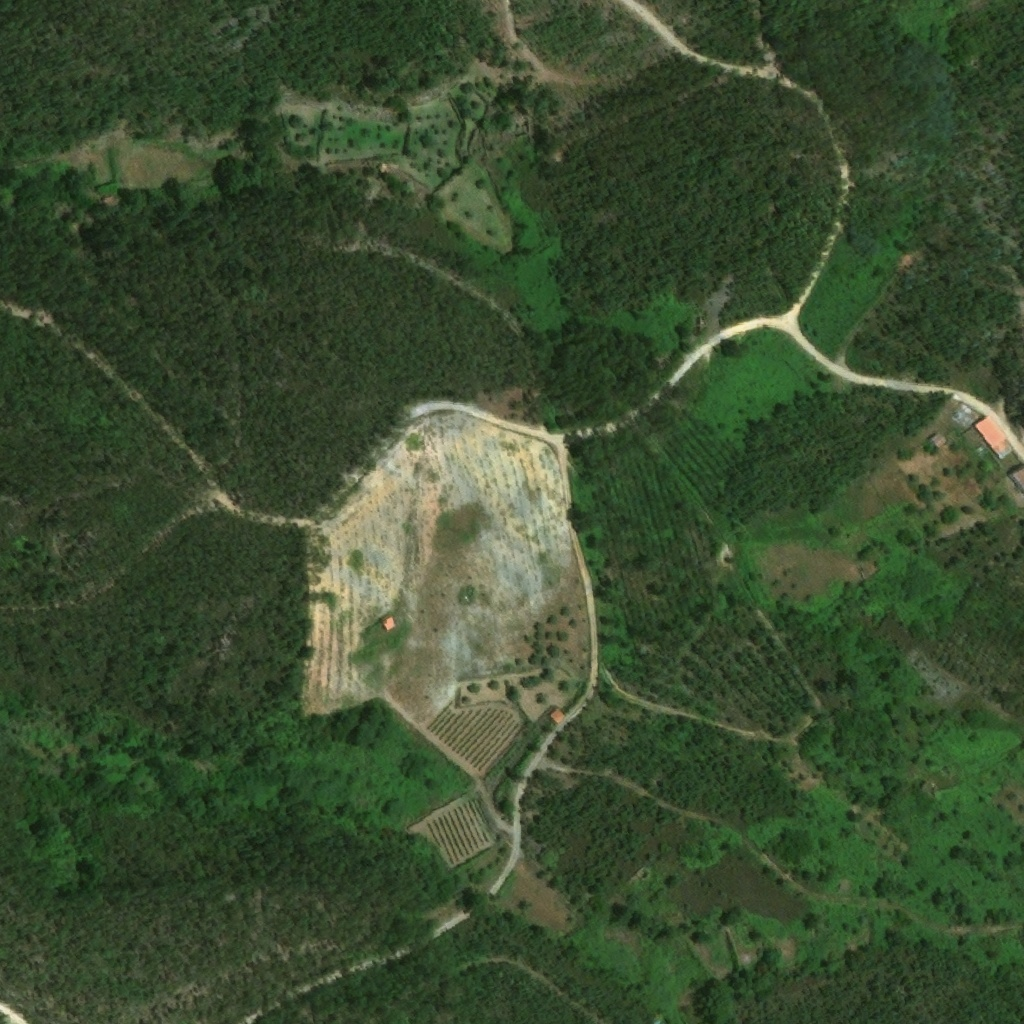0 no-damage: (972, 415, 1014, 461), (1004, 465, 1023, 498), (549, 705, 567, 726), (384, 617, 399, 635)
